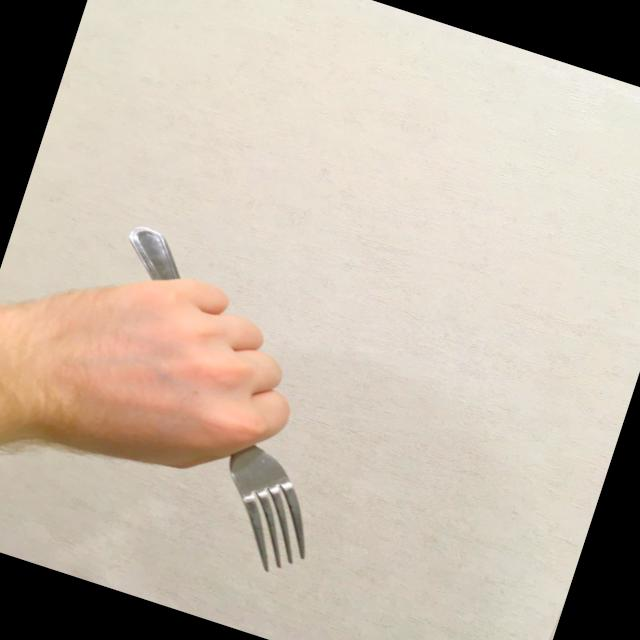fork: (45, 224, 388, 582)
